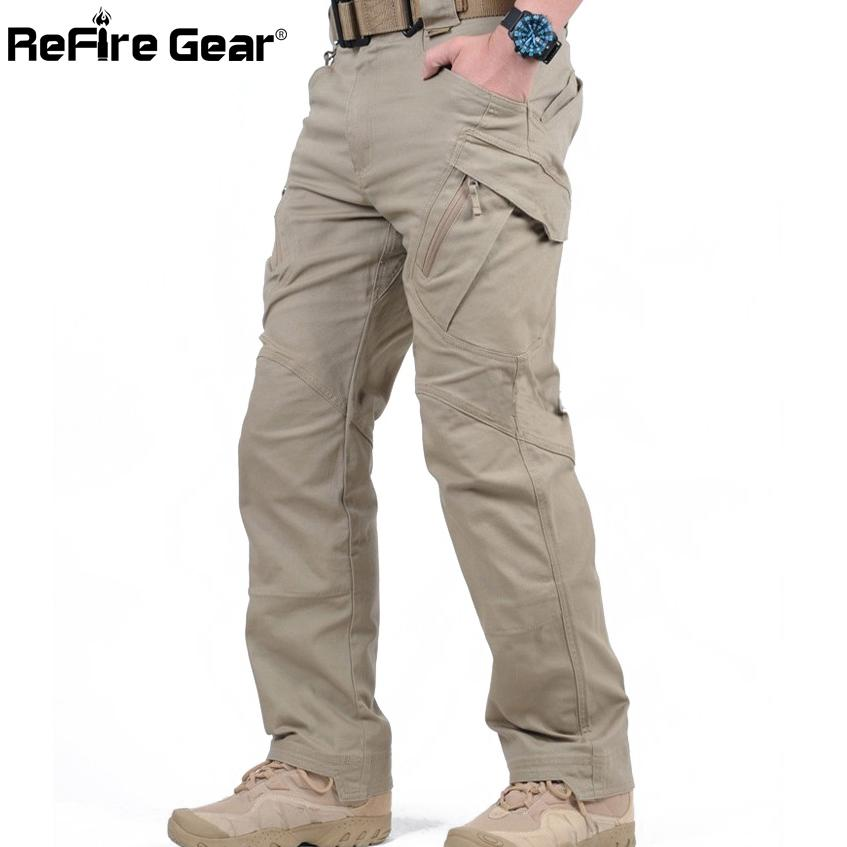pants: (241, 24, 633, 799)
